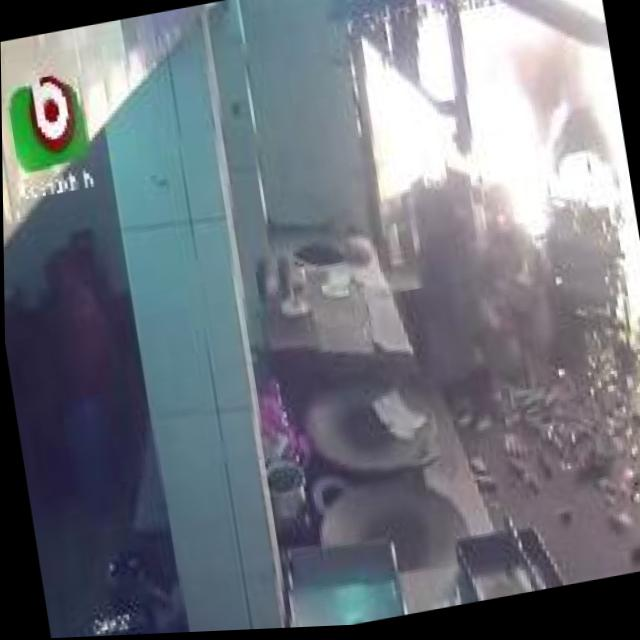fire: (468, 0, 640, 395), (355, 11, 568, 306)
